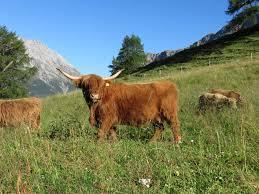cow: (75, 74, 182, 142), (0, 97, 42, 135), (199, 92, 237, 113), (208, 88, 243, 106)
